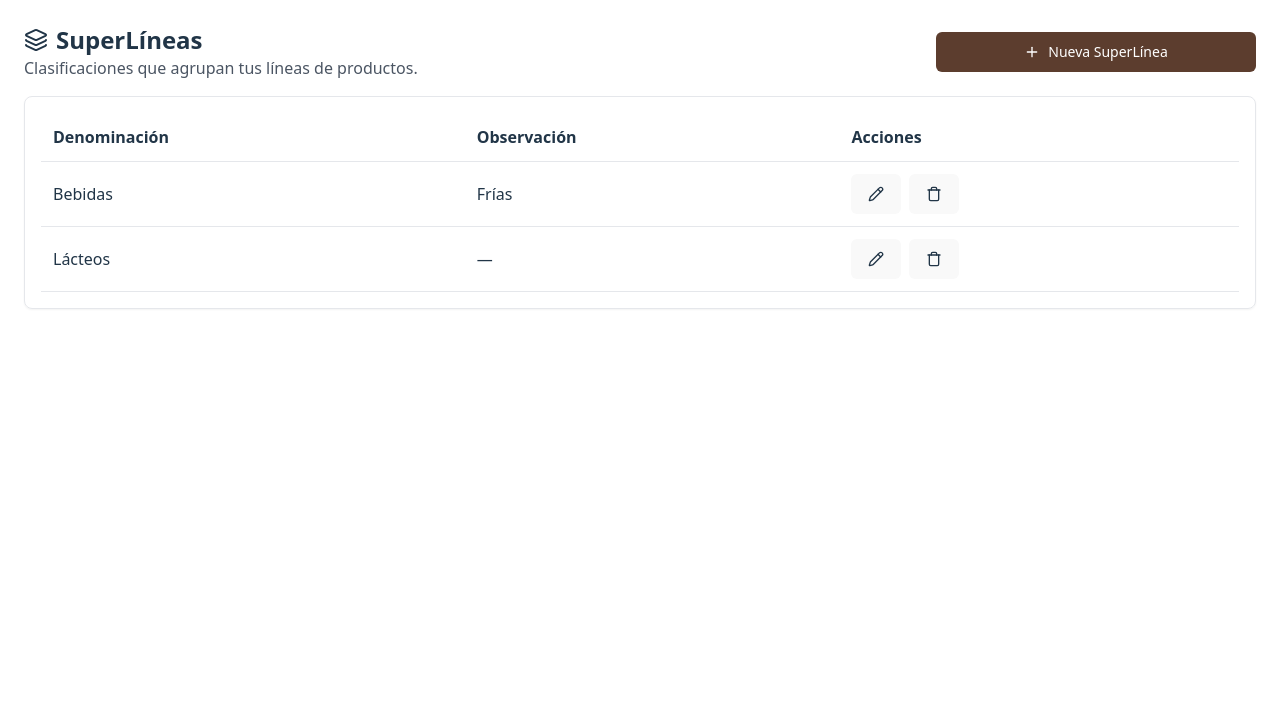
ConsultarSuperlinea › edición › al abrir el formulario limpia los mensajes previos
Click the button named "Editar Bebidas".
click(876, 194)  # box [852,174,902,214]
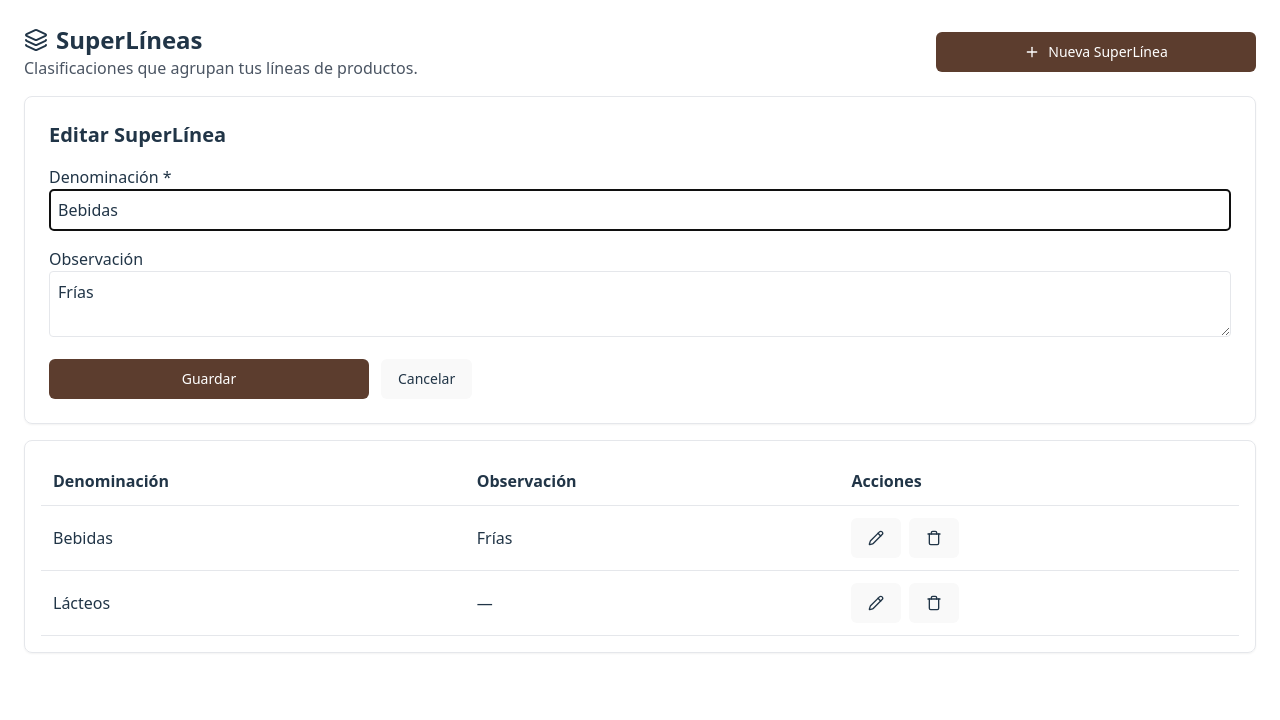
Click the button "Guardar".
click(209, 379)  # box [49,359,369,399]
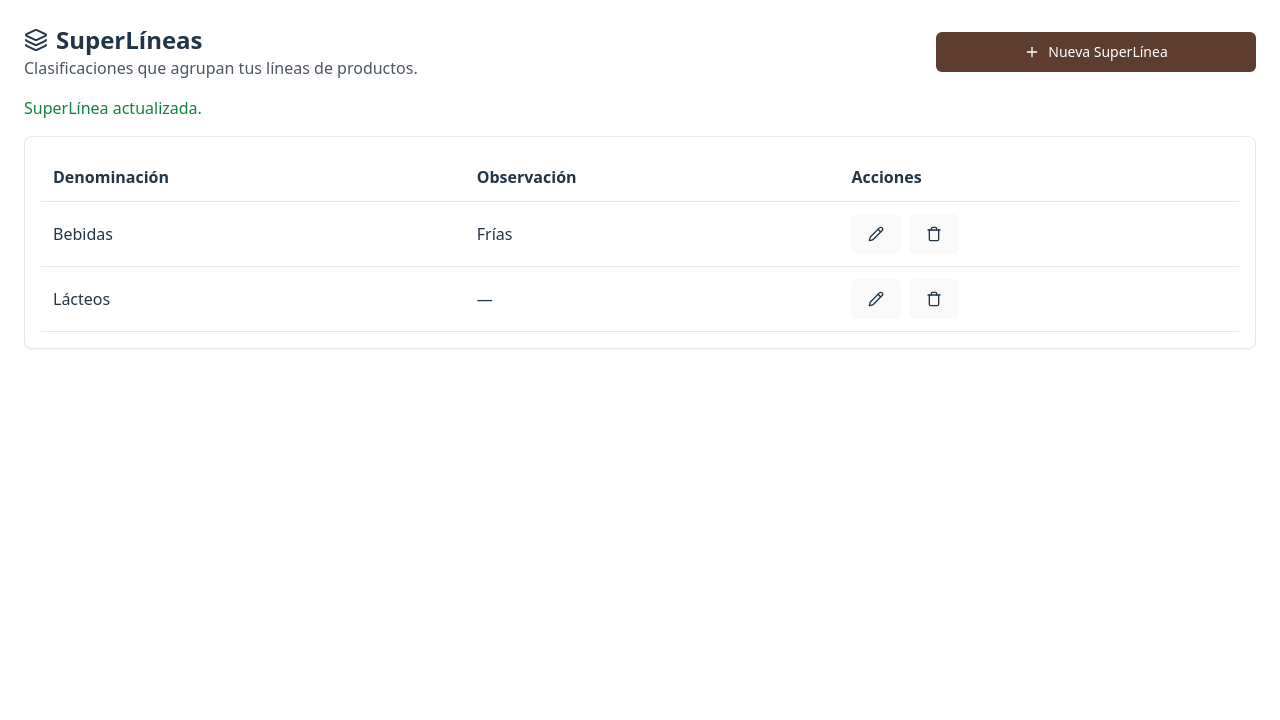
Check: the text "SuperLínea actualizada." is shown, box [24,97,202,119]
Click the button named "Editar Lácteos".
click(876, 299)  # box [852,279,902,319]
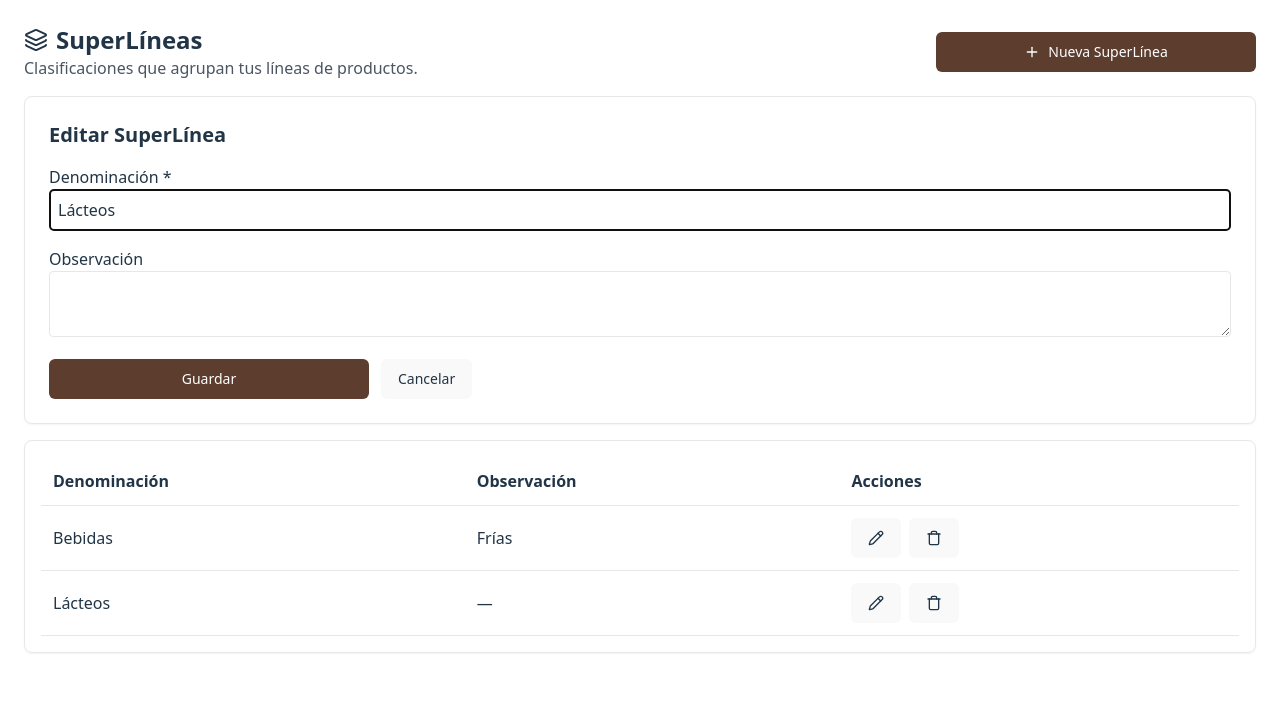
Check: the text "SuperLínea actualizada." is gone
